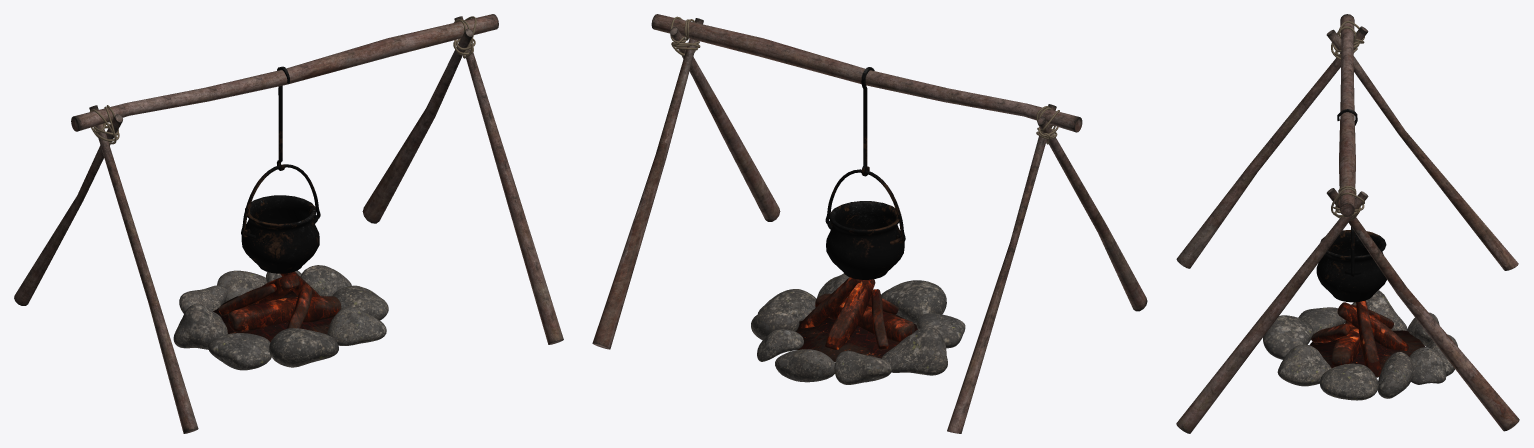
File: campfire.gltf
3 views of the same model, side by side, from view 1: azimuth 30°, elevation 25°; view 2: azimuth 150°, elevation 25°; view 3: azimuth 270°, elevation 25° (orthographic). The views are drawn at different scales.
Visible parts, largest first — view 1: wooden logs, rock.015, wooden_log_top, kettle, burnt logs, nashshiri, ropes; view 2: wooden logs, rock.015, wooden_log_top, kettle, burnt logs, nashshiri, ropes, kauchi; view 3: wooden logs, rock.015, kettle, burnt logs, wooden_log_top, nashshiri, ropes.
Part boxes in pixels (box(x1,y1,x2,y2)): wooden logs: box(14, 16, 563, 433); rock.015: box(173, 265, 388, 370); wooden_log_top: box(71, 14, 498, 131); kettle: box(241, 164, 320, 273); burnt logs: box(218, 271, 341, 332); nashshiri: box(213, 290, 333, 342); ropes: box(90, 16, 476, 144); wooden logs: box(592, 18, 1147, 433); rock.015: box(751, 273, 965, 384); wooden_log_top: box(651, 14, 1082, 132); kettle: box(825, 169, 905, 279); burnt logs: box(799, 277, 914, 350); nashshiri: box(796, 314, 917, 362); ropes: box(670, 16, 1059, 144); kauchi: box(861, 67, 874, 176); wooden logs: box(1176, 26, 1519, 433); rock.015: box(1263, 290, 1457, 400); kettle: box(1316, 227, 1386, 302); burnt logs: box(1311, 300, 1408, 372); wooden_log_top: box(1339, 14, 1355, 216); nashshiri: box(1309, 330, 1425, 377); ropes: box(1331, 21, 1364, 220).
Bounding box in the file's own units: 411 × 263 × 315.
Materials: 2 (2 with a texture image).
